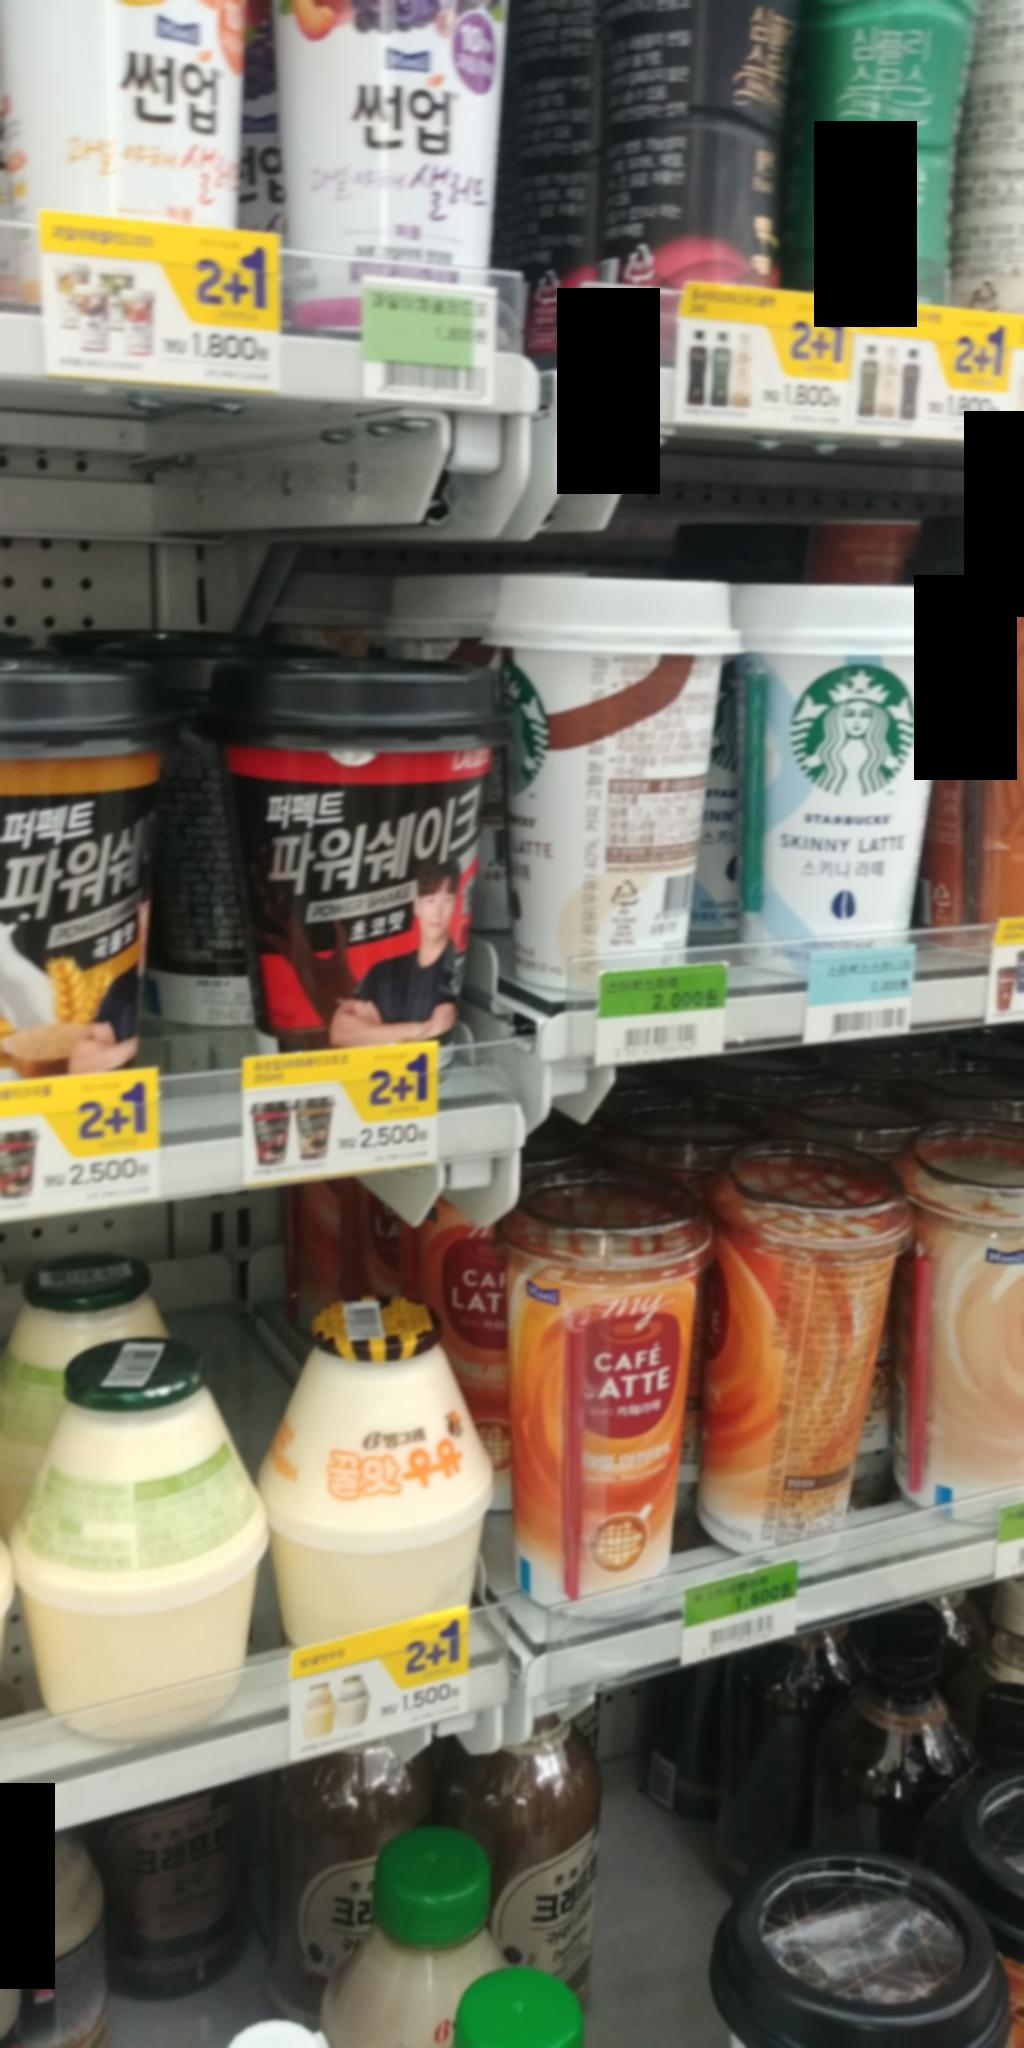starbucks_cafelatte: (483, 559, 742, 994)
